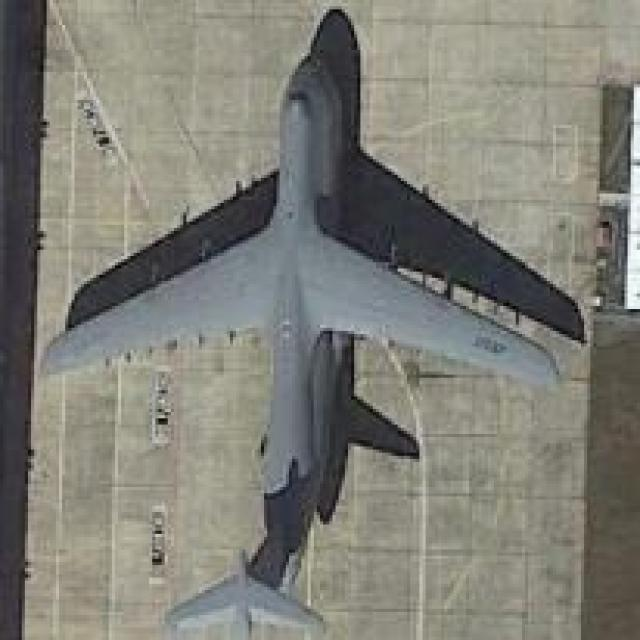C-5_TopDown: (37, 6, 587, 635)
